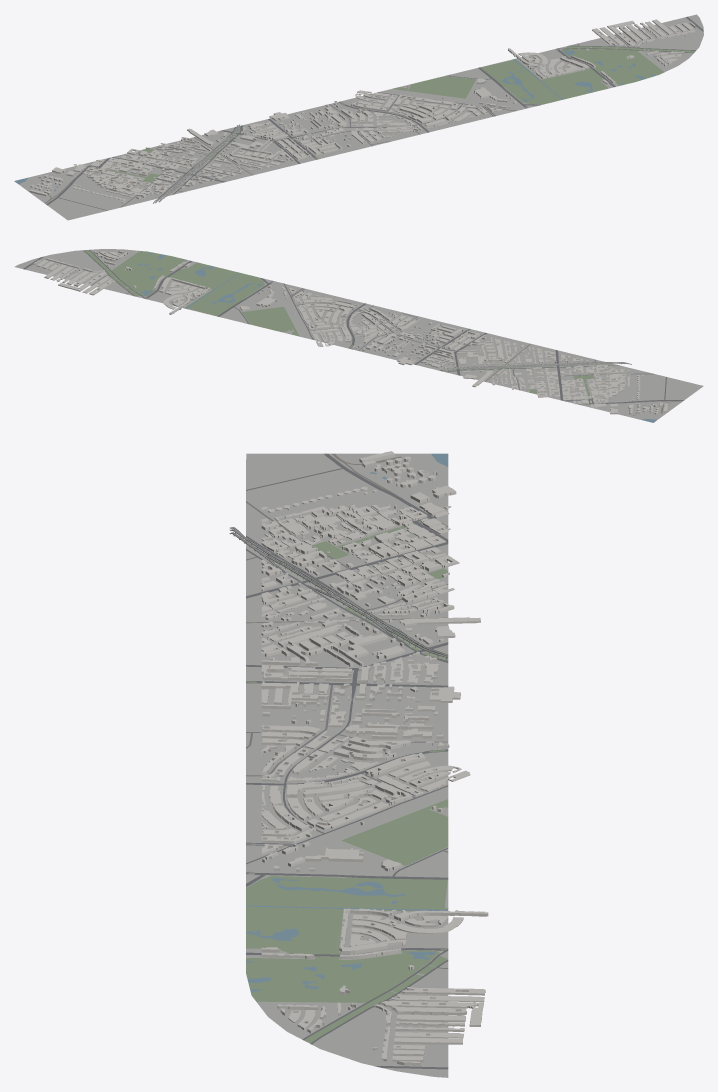
Rendered from city_3.glb.
The picture shows the model from 3 angles, top to bottom: view 1: azimuth 30°, elevation 25°; view 2: azimuth 150°, elevation 25°; view 3: azimuth 270°, elevation 25°; orthographic projection. The views are drawn at different scales.
Visible parts, largest first — view 1: Ground_8_9, Ground_9_9, Ground_5_9, Tile_6_9-col, Tile_7_9-col, Ground_6_9, Ground_7_9, Tile_5_9-col, Tile_9_9-col, Tile_8_9-col, Ground_10_9, Tile_10_9-col; view 2: Ground_8_9, Ground_9_9, Ground_5_9, Ground_6_9, Tile_7_9-col, Ground_7_9, Tile_6_9-col, Tile_5_9-col, Tile_9_9-col, Tile_8_9-col, Ground_10_9, Tile_10_9-col; view 3: Ground_8_9, Ground_9_9, Ground_5_9, Tile_7_9-col, Tile_6_9-col, Ground_7_9, Ground_6_9, Tile_5_9-col, Tile_9_9-col, Tile_8_9-col, Ground_10_9, Tile_10_9-col.
Part boxes in pixels (<box>): Ground_8_9: <box>385,60,560,129</box>; Ground_9_9: <box>508,30,678,99</box>; Ground_5_9: <box>14,151,190,220</box>; Tile_6_9-col: <box>138,122,305,186</box>; Tile_7_9-col: <box>250,90,432,160</box>; Ground_6_9: <box>140,121,314,190</box>; Ground_7_9: <box>261,90,437,159</box>; Tile_5_9-col: <box>29,148,185,203</box>; Tile_9_9-col: <box>508,20,682,84</box>; Tile_8_9-col: <box>394,78,528,126</box>; Ground_10_9: <box>637,14,703,64</box>; Tile_10_9-col: <box>626,19,695,62</box>; Ground_8_9: <box>191,273,356,338</box>; Ground_9_9: <box>76,249,241,309</box>; Ground_5_9: <box>540,358,703,422</box>; Ground_6_9: <box>422,329,587,394</box>; Tile_7_9-col: <box>310,304,480,365</box>; Ground_7_9: <box>307,301,472,366</box>; Tile_6_9-col: <box>425,334,583,392</box>; Tile_5_9-col: <box>537,360,667,415</box>; Tile_9_9-col: <box>58,251,210,314</box>; Tile_8_9-col: <box>240,280,355,332</box>; Ground_10_9: <box>14,249,119,280</box>; Tile_10_9-col: <box>33,251,120,284</box>; Ground_8_9: <box>246,792,448,904</box>; Ground_9_9: <box>246,905,448,1017</box>; Ground_5_9: <box>246,453,448,566</box>; Tile_7_9-col: <box>261,657,470,797</box>; Tile_6_9-col: <box>261,557,480,683</box>; Ground_7_9: <box>246,679,448,792</box>; Ground_6_9: <box>246,566,448,679</box>; Tile_5_9-col: <box>229,451,459,573</box>; Tile_9_9-col: <box>261,908,488,1029</box>; Tile_8_9-col: <box>246,782,442,874</box>; Ground_10_9: <box>270,1018,448,1077</box>; Tile_10_9-col: <box>288,1010,465,1065</box>.
Size of what is drawn, in the model's own units: 5664 by 13.26 by 993.
